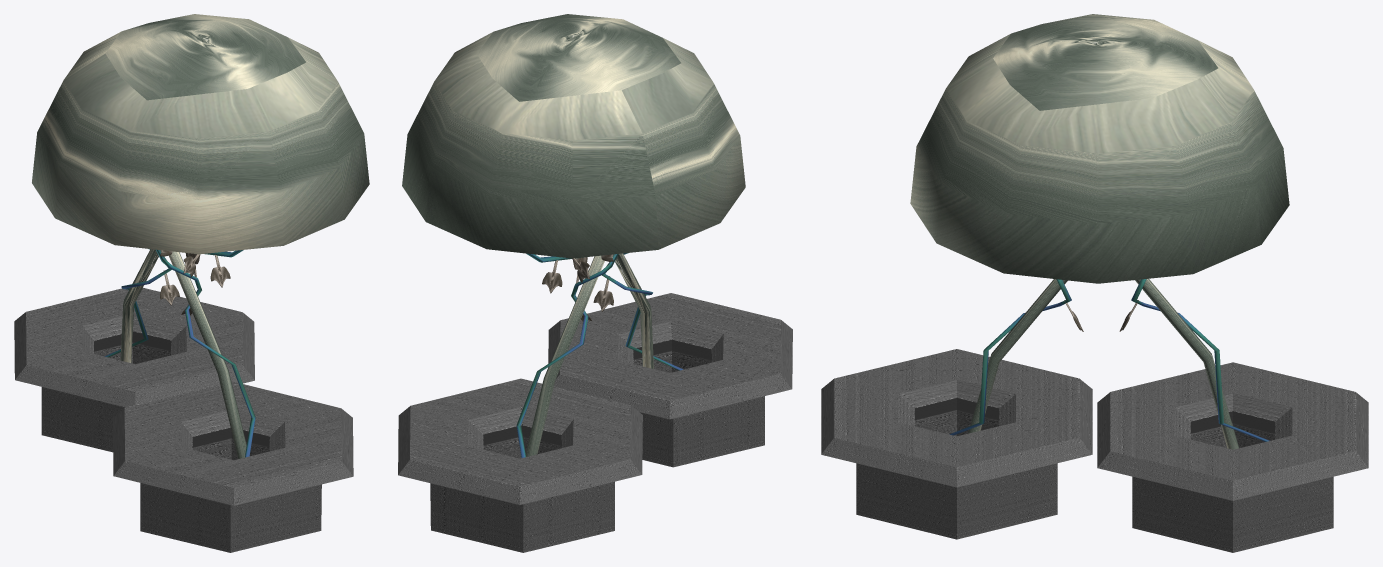
File: Circularsitting.fbx
The picture shows the model from 3 angles, left to right: view 1: azimuth 30°, elevation 25°; view 2: azimuth 150°, elevation 25°; view 3: azimuth 270°, elevation 25°; orthographic projection. The views are drawn at different scales.
Parts seen in each view (by area): view 1: circleshadersculpture, circlestonesitting, circlestonesitting1, stick2, stick1, stem1, stem; view 2: circleshadersculpture, circlestonesitting1, circlestonesitting, stick1, stick2, stem, stem1; view 3: circleshadersculpture, circlestonesitting, circlestonesitting1, stick1, stick2, stem, stem1.
Boxes of the visible parts, x1,y1,x2,y2 form: circleshadersculpture: (32,14,369,254); circlestonesitting: (113,381,353,552); circlestonesitting1: (14,287,254,452); stick2: (169,251,246,458); stick1: (120,249,161,363); stem1: (156,249,255,457); stem: (104,249,243,357); circleshadersculpture: (402,14,745,258); circlestonesitting1: (398,378,642,552); circlestonesitting: (548,293,792,467); stick1: (525,255,604,456); stick2: (612,253,653,368); stem: (516,254,618,457); stem1: (526,253,683,370); circleshadersculpture: (910,14,1289,283); circlestonesitting: (821,349,1092,539); circlestonesitting1: (1097,362,1368,552); stick1: (1135,278,1239,449); stick2: (968,279,1067,433); stem: (1131,279,1269,441); stem1: (949,279,1071,435).
Size of the model in its own units: 28.37 by 38.31 by 40.53.
